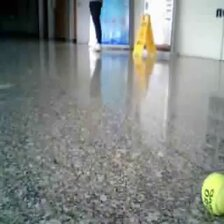tennis: (199, 172, 224, 217)
